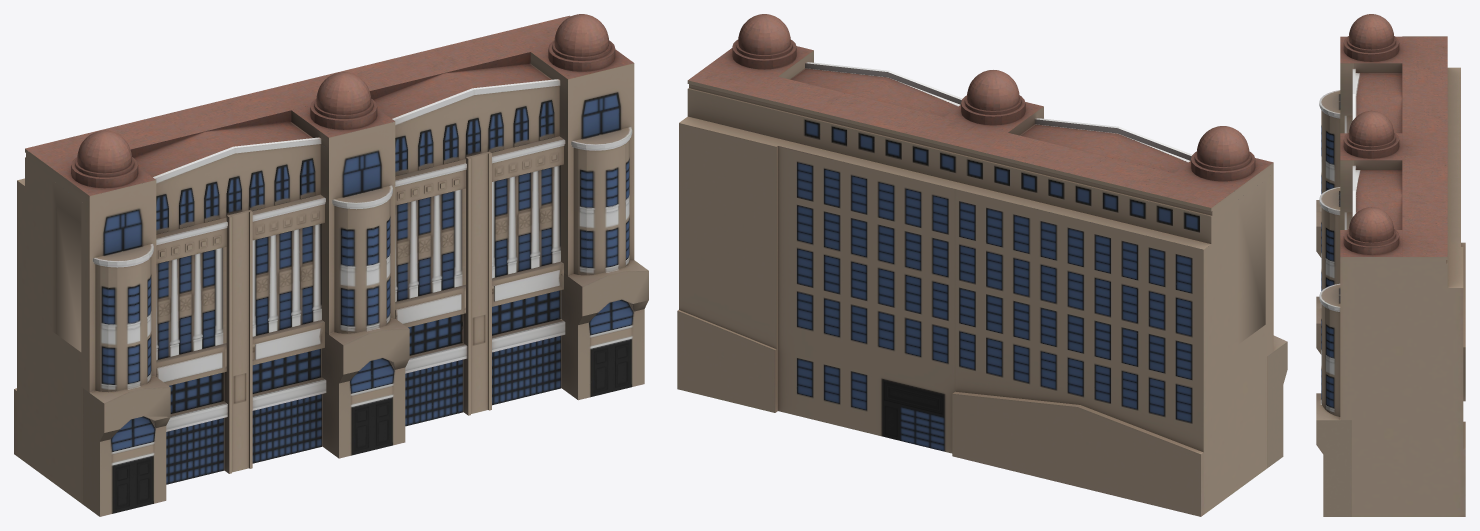
3 views of the same model, side by side, from view 1: azimuth 30°, elevation 25°; view 2: azimuth 150°, elevation 25°; view 3: azimuth 270°, elevation 25° (orthographic). The views are drawn at different scales.
Visible parts, largest first — view 1: ha; view 2: ha; view 3: ha.
Boxes of the visible parts, left/top/right/bottom form: ha: left=14, top=14, right=648, bottom=516; ha: left=677, top=14, right=1287, bottom=516; ha: left=1316, top=14, right=1465, bottom=516.
Size of the model in its own units: 33.07 by 20.59 by 9.47.
Materials: 1 (1 with a texture image).
